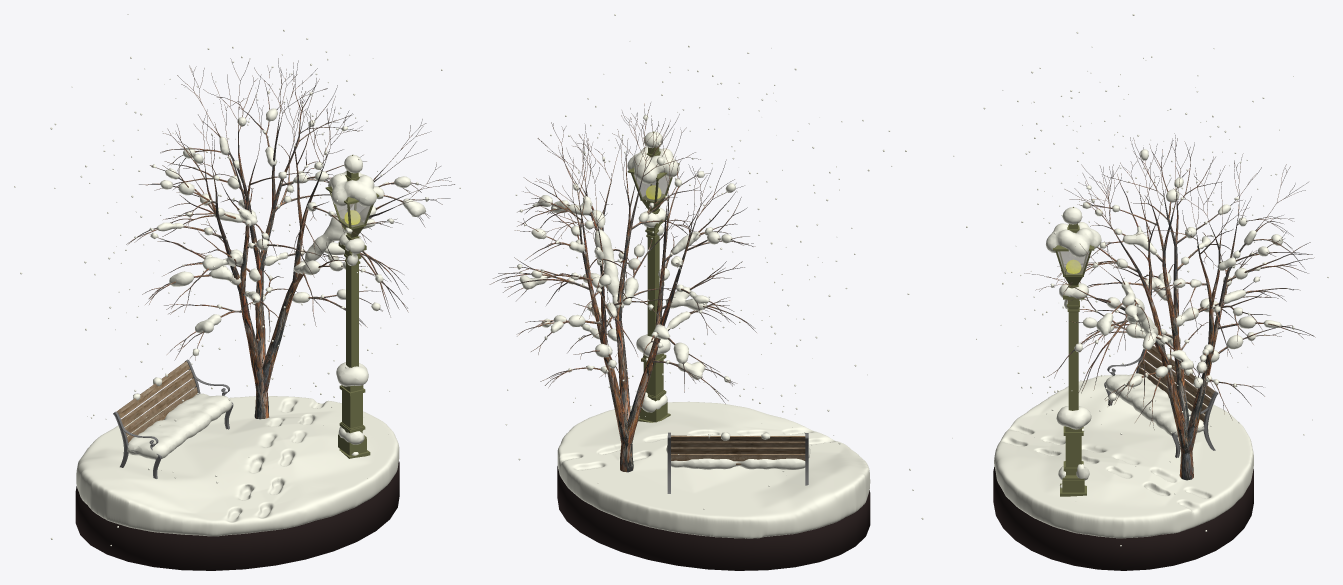
Rendered from snow.compressed (1).glb.
3 views of the same model, side by side, from view 1: azimuth 30°, elevation 25°; view 2: azimuth 150°, elevation 25°; view 3: azimuth 270°, elevation 25° (orthographic). The views are drawn at different scales.
Visible parts, largest first — view 1: Circle.001, tree, Circle, SnowBall.005, Cube, Bench_01, SnowBall.001, SnowBall.004; view 2: Circle.001, tree, Circle, SnowBall.005, Bench_01, Cube, SnowBall.004, SnowBall.001; view 3: Circle.001, tree, Circle, SnowBall.005, Cube, SnowBall.004, SnowBall.001, Bench_01, Plane.
Part boxes in pixels (box(x1,y1,x2,y2)): Circle.001: box(14, 14, 460, 546); tree: box(126, 58, 454, 419); Circle: box(75, 461, 399, 570); SnowBall.005: box(134, 90, 428, 355); Cube: box(325, 155, 379, 458); Bench_01: box(113, 359, 233, 478); SnowBall.001: box(127, 373, 231, 459); SnowBall.004: box(328, 154, 376, 455); Circle.001: box(505, 14, 923, 538); tree: box(489, 103, 756, 472); Circle: box(557, 466, 870, 570); SnowBall.005: box(517, 114, 735, 391); Bench_01: box(667, 432, 808, 493); Cube: box(627, 131, 679, 422); SnowBall.004: box(627, 131, 679, 412); SnowBall.001: box(666, 432, 810, 469); Circle.001: box(952, 14, 1328, 546); tree: box(1024, 133, 1315, 480); Circle: box(993, 467, 1253, 570); SnowBall.005: box(1050, 149, 1294, 410); Cube: box(1053, 207, 1094, 496); SnowBall.004: box(1046, 207, 1101, 488); SnowBall.001: box(1105, 354, 1204, 436); Bench_01: box(1104, 345, 1218, 457); Plane: box(1057, 251, 1089, 274).
Size of the model in its own units: 5.82 by 6.12 by 4.92.
Materials: 8 (3 with a texture image).
